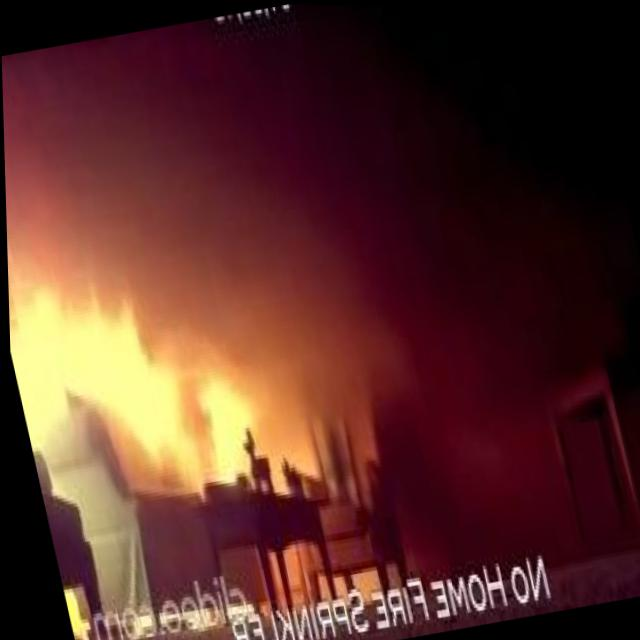fire: (6, 259, 186, 450), (91, 288, 198, 482), (190, 371, 251, 478)
